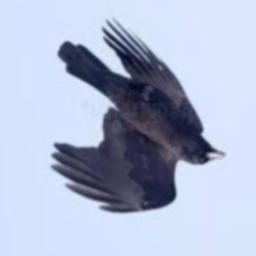Crow: (51, 20, 227, 216)
